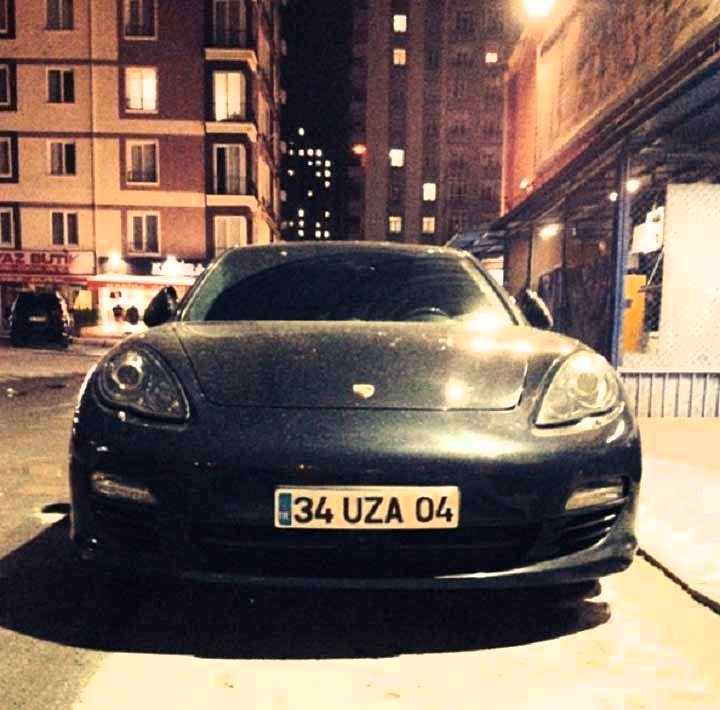plaka: (289, 482, 458, 530)
